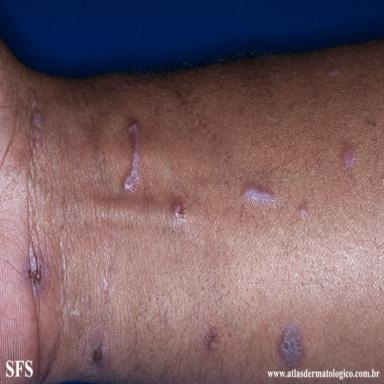lichen: (123, 123, 139, 191), (280, 326, 303, 366), (29, 92, 43, 148), (242, 183, 276, 204), (27, 248, 44, 285), (203, 326, 218, 351), (171, 198, 187, 220), (342, 145, 355, 170), (92, 343, 106, 362), (297, 202, 310, 219), (103, 277, 109, 294)
